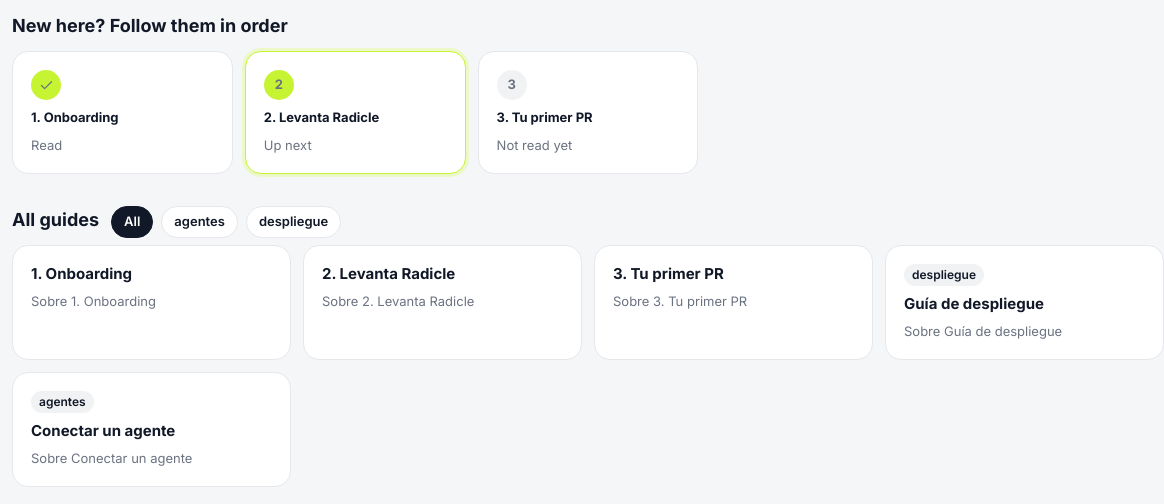
Scenario: GuidesSection › marks the path by what you read and filters guides by category
Expected: the text "Read" is shown, x1=31 y1=136 x2=62 y2=152
Expected: the text "Up next" is shown, x1=264 y1=136 x2=312 y2=152
Click the button "despliegue": click(294, 222) x1=246 y1=206 x2=341 y2=238
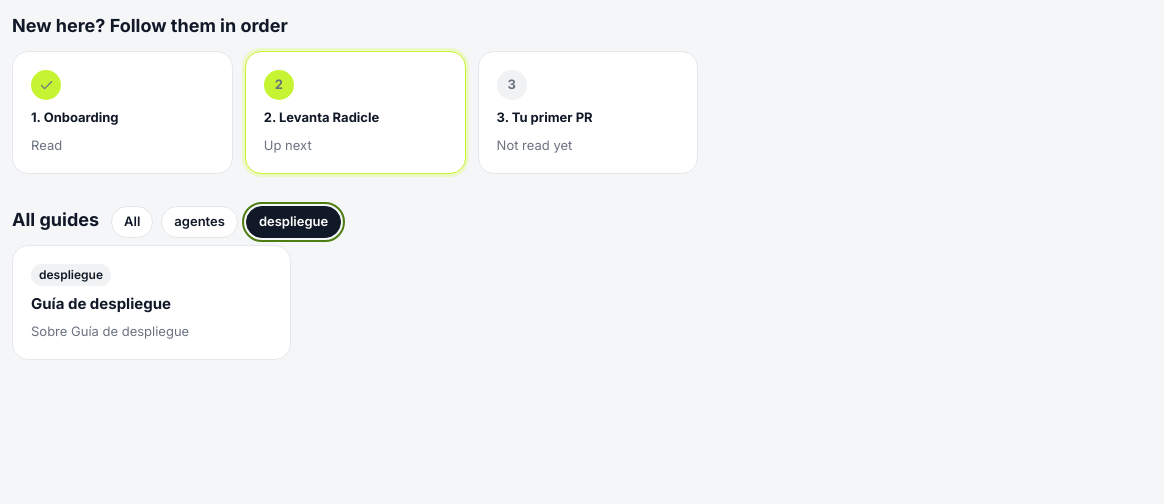
Expected: the link "despliegue Guía de despliegue Sobre Guía de despliegue" is shown, x1=12 y1=245 x2=291 y2=360
Result: the link "Conectar un agente" is gone
